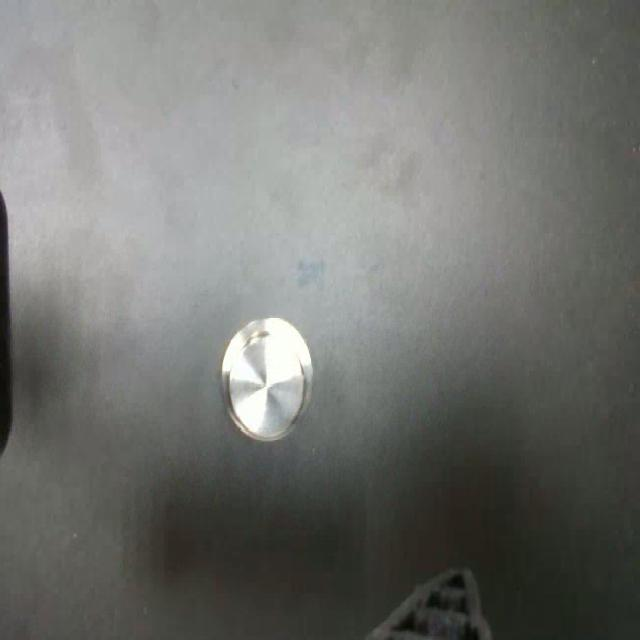sensor: (220, 315, 314, 442)
